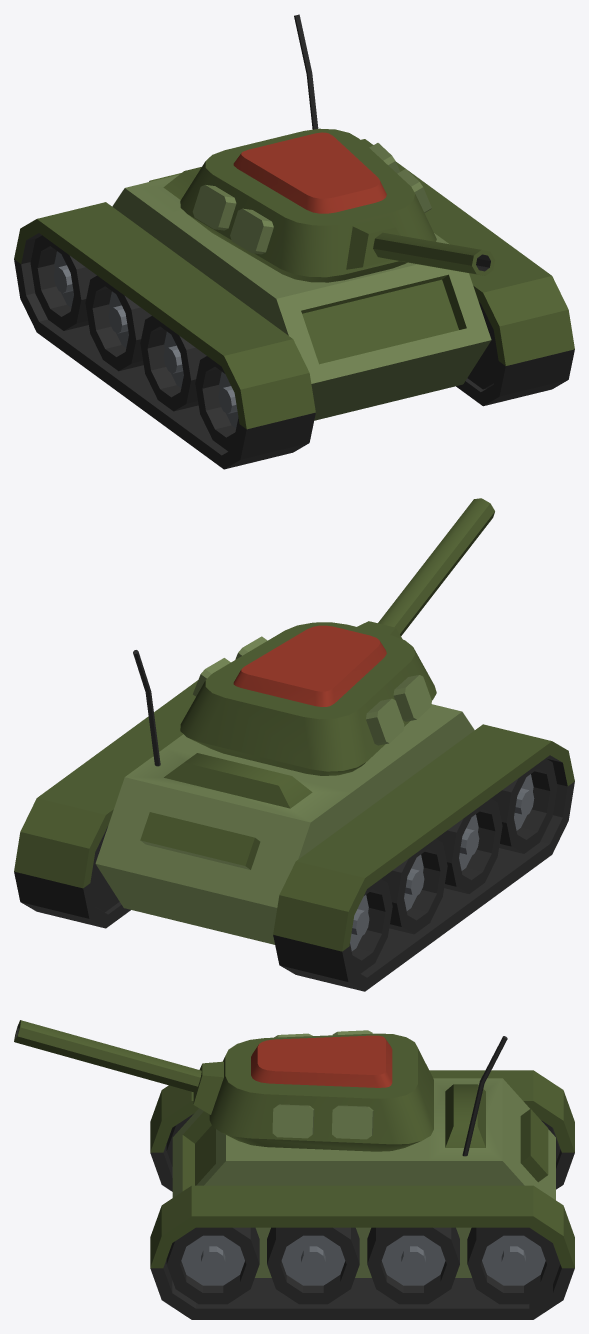
The model's file is m_tank.glb.
The picture shows the model from 3 angles, top to bottom: view 1: azimuth 30°, elevation 25°; view 2: azimuth 150°, elevation 25°; view 3: azimuth 270°, elevation 25°; orthographic projection. The views are drawn at different scales.
Parts seen in each view (by area): view 1: tank; view 2: tank; view 3: tank.
Part boxes in pixels (box(x1,y1,x2,y2)): tank: box(14, 14, 574, 469); tank: box(14, 498, 574, 991); tank: box(14, 1020, 574, 1319).
Size of the model in its own units: 1.6 by 1.26 by 2.59.
